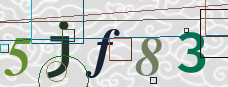3: (175, 28, 208, 77)
5: (3, 36, 33, 78)
8: (132, 35, 165, 78)
f: (85, 26, 121, 80)
j: (44, 18, 78, 79)
